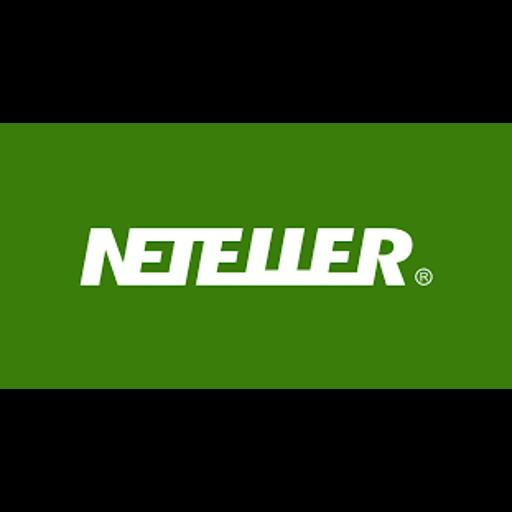Neteller: (0, 123, 512, 389)
